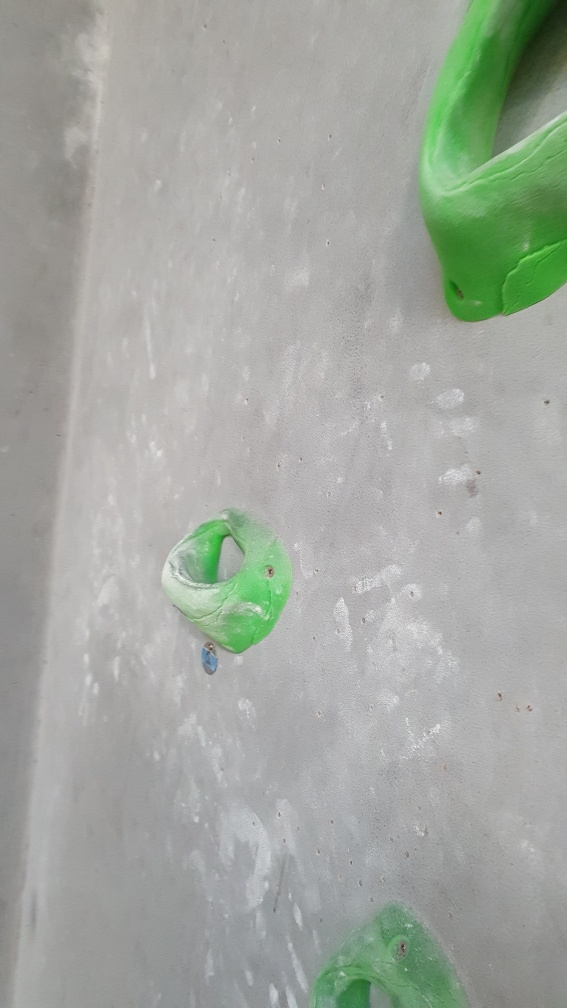Hand Start: (202, 645, 219, 679)
Pocket: (411, 1, 566, 334), (158, 503, 290, 655)
